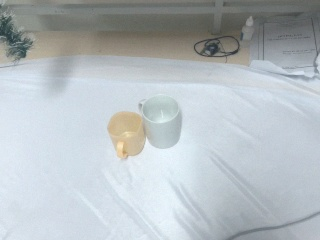cup: (139, 93, 183, 149), (107, 111, 147, 159)
